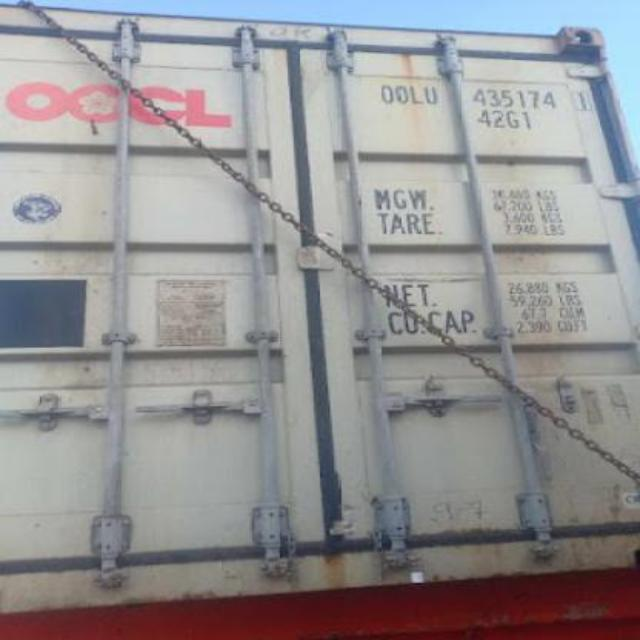1: (574, 89, 592, 113), (514, 84, 526, 106)
3: (488, 82, 500, 111)
4: (470, 80, 486, 110), (542, 84, 558, 112)
5: (498, 85, 516, 112)
7: (526, 85, 542, 112)
L: (411, 85, 424, 109)
O: (394, 76, 410, 108), (378, 80, 396, 108)
U: (422, 76, 440, 112)
